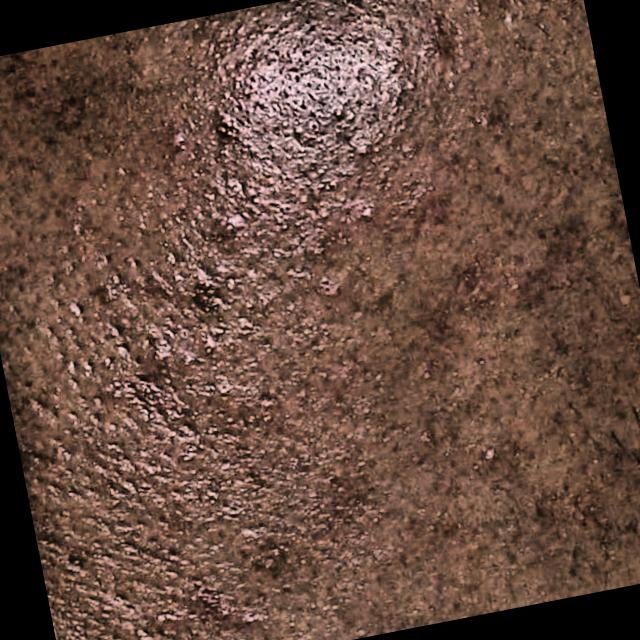whiteheads: (158, 121, 198, 159), (354, 196, 384, 226), (478, 442, 504, 470), (498, 6, 522, 32), (322, 176, 340, 194), (342, 110, 358, 126), (292, 126, 308, 142), (332, 106, 346, 122), (370, 144, 382, 156)
